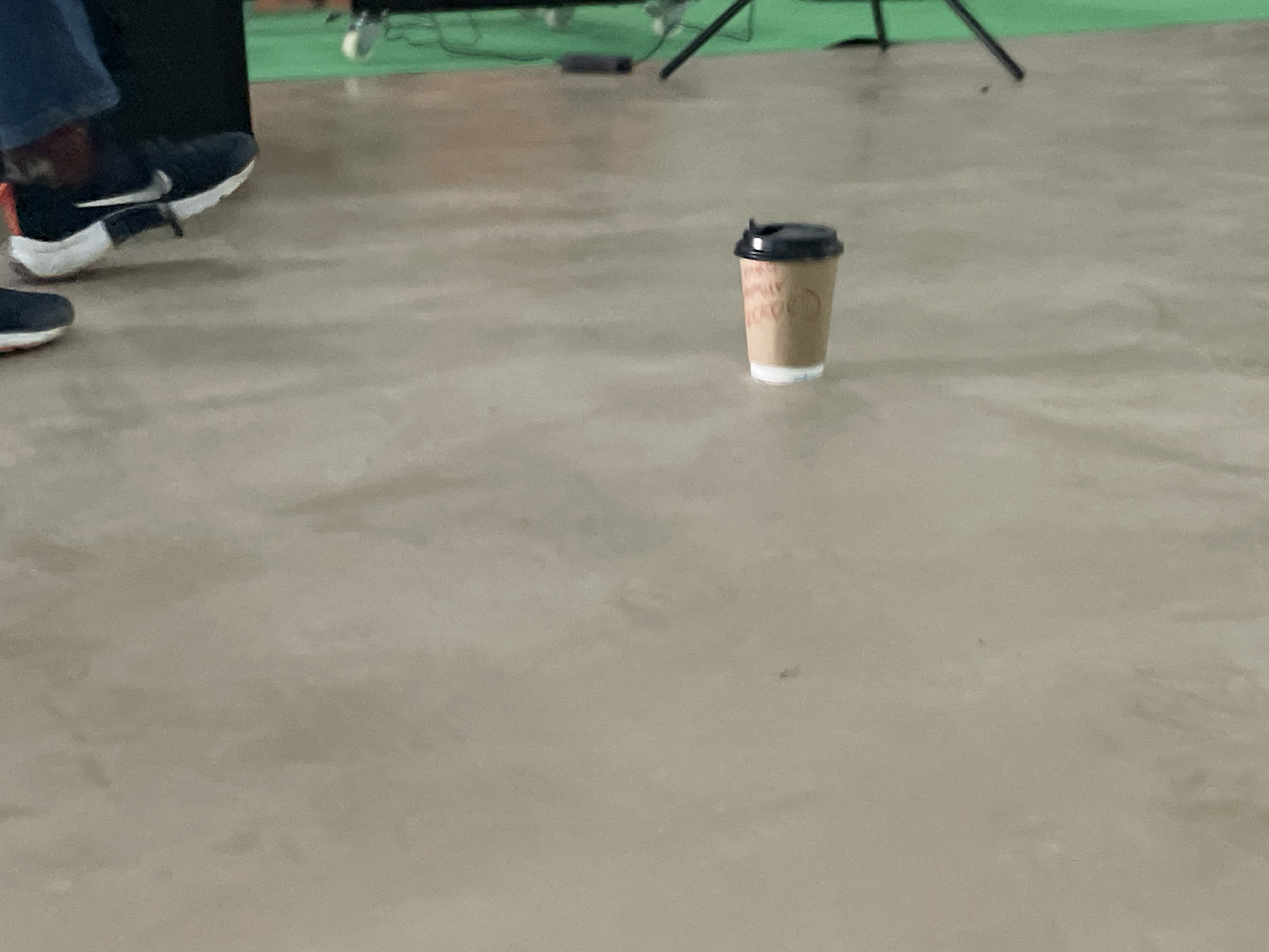cup: (733, 218, 845, 385)
